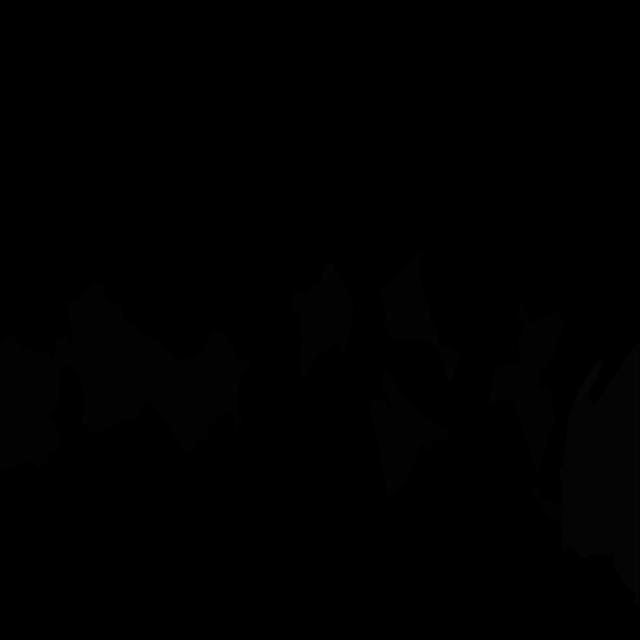cardboard: (49, 283, 252, 454), (489, 306, 564, 472), (380, 249, 462, 382), (368, 367, 449, 497), (0, 333, 64, 472), (290, 262, 354, 378), (531, 485, 564, 523)
soft_plastic: (559, 340, 640, 609)
